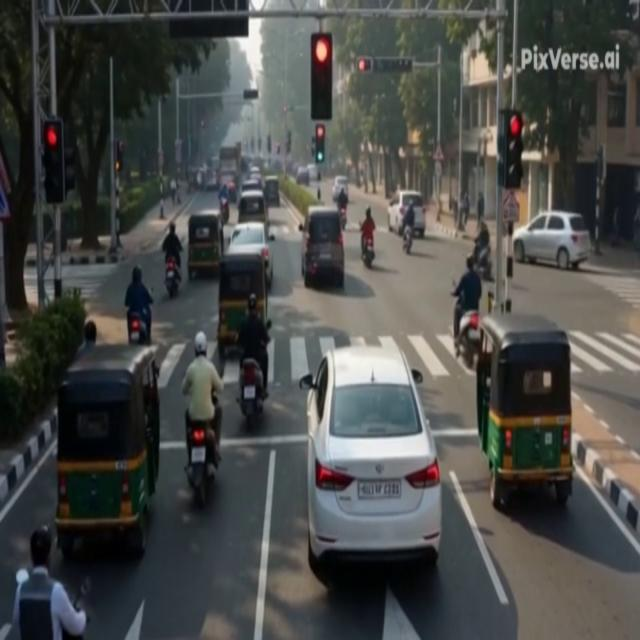car: (299, 346, 441, 581), (513, 211, 590, 269), (299, 205, 344, 287), (227, 223, 274, 287), (388, 191, 425, 237), (220, 174, 237, 203), (332, 176, 348, 201), (241, 180, 262, 192), (296, 168, 309, 186), (307, 164, 318, 181), (249, 172, 262, 186), (205, 177, 218, 191), (249, 165, 260, 175)
scooty: (185, 416, 218, 507), (72, 577, 90, 611), (165, 257, 179, 298), (362, 238, 375, 268), (403, 227, 412, 255)
traffic signal: (499, 110, 523, 189), (42, 119, 64, 204), (311, 33, 332, 120), (64, 144, 75, 199), (315, 124, 325, 163), (596, 145, 605, 183), (115, 140, 123, 173), (357, 57, 372, 72), (286, 130, 291, 153), (311, 136, 315, 157), (267, 135, 271, 153), (250, 137, 254, 151), (258, 137, 261, 152), (276, 143, 280, 154), (201, 120, 205, 128)
truck: (218, 144, 241, 203), (219, 145, 241, 182)
